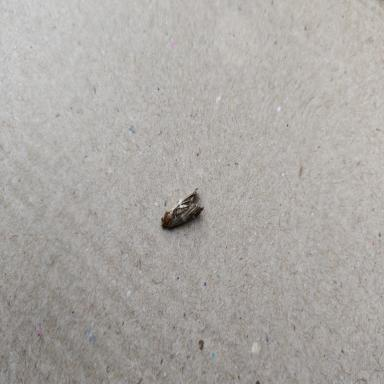pbw: (160, 188, 204, 229)
